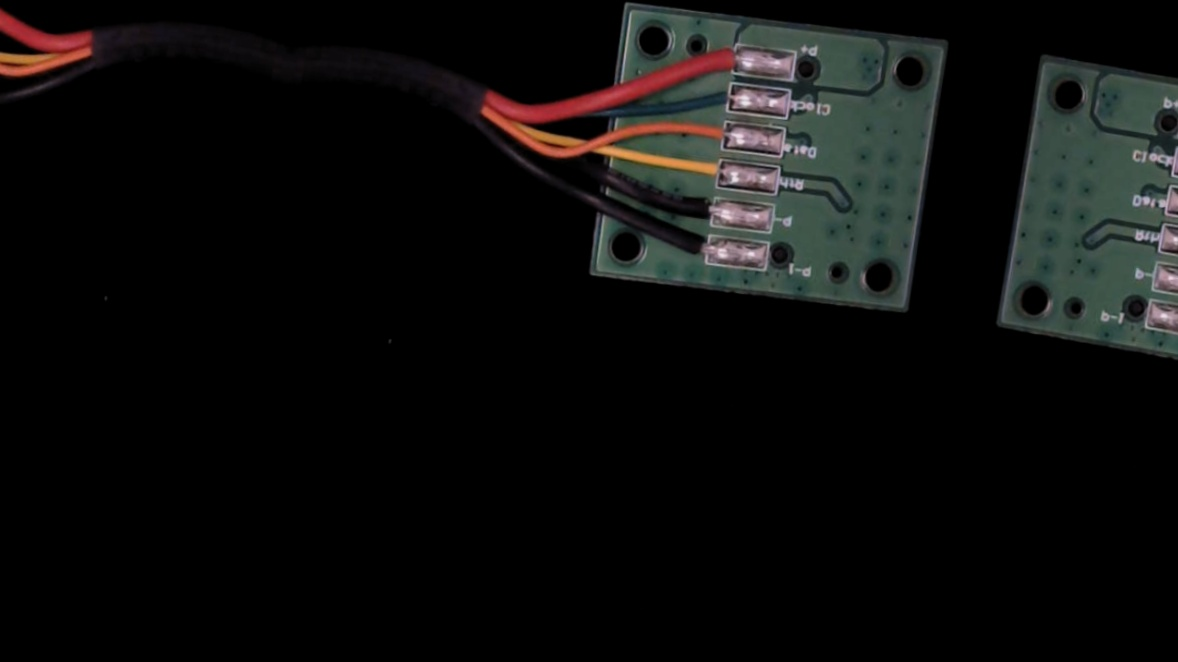Black: (662, 189, 728, 228)
Black1: (653, 226, 723, 268)
Green: (691, 77, 748, 115)
Orange: (676, 111, 742, 152)
Red: (686, 35, 752, 78)
Yellow: (669, 151, 736, 190)
